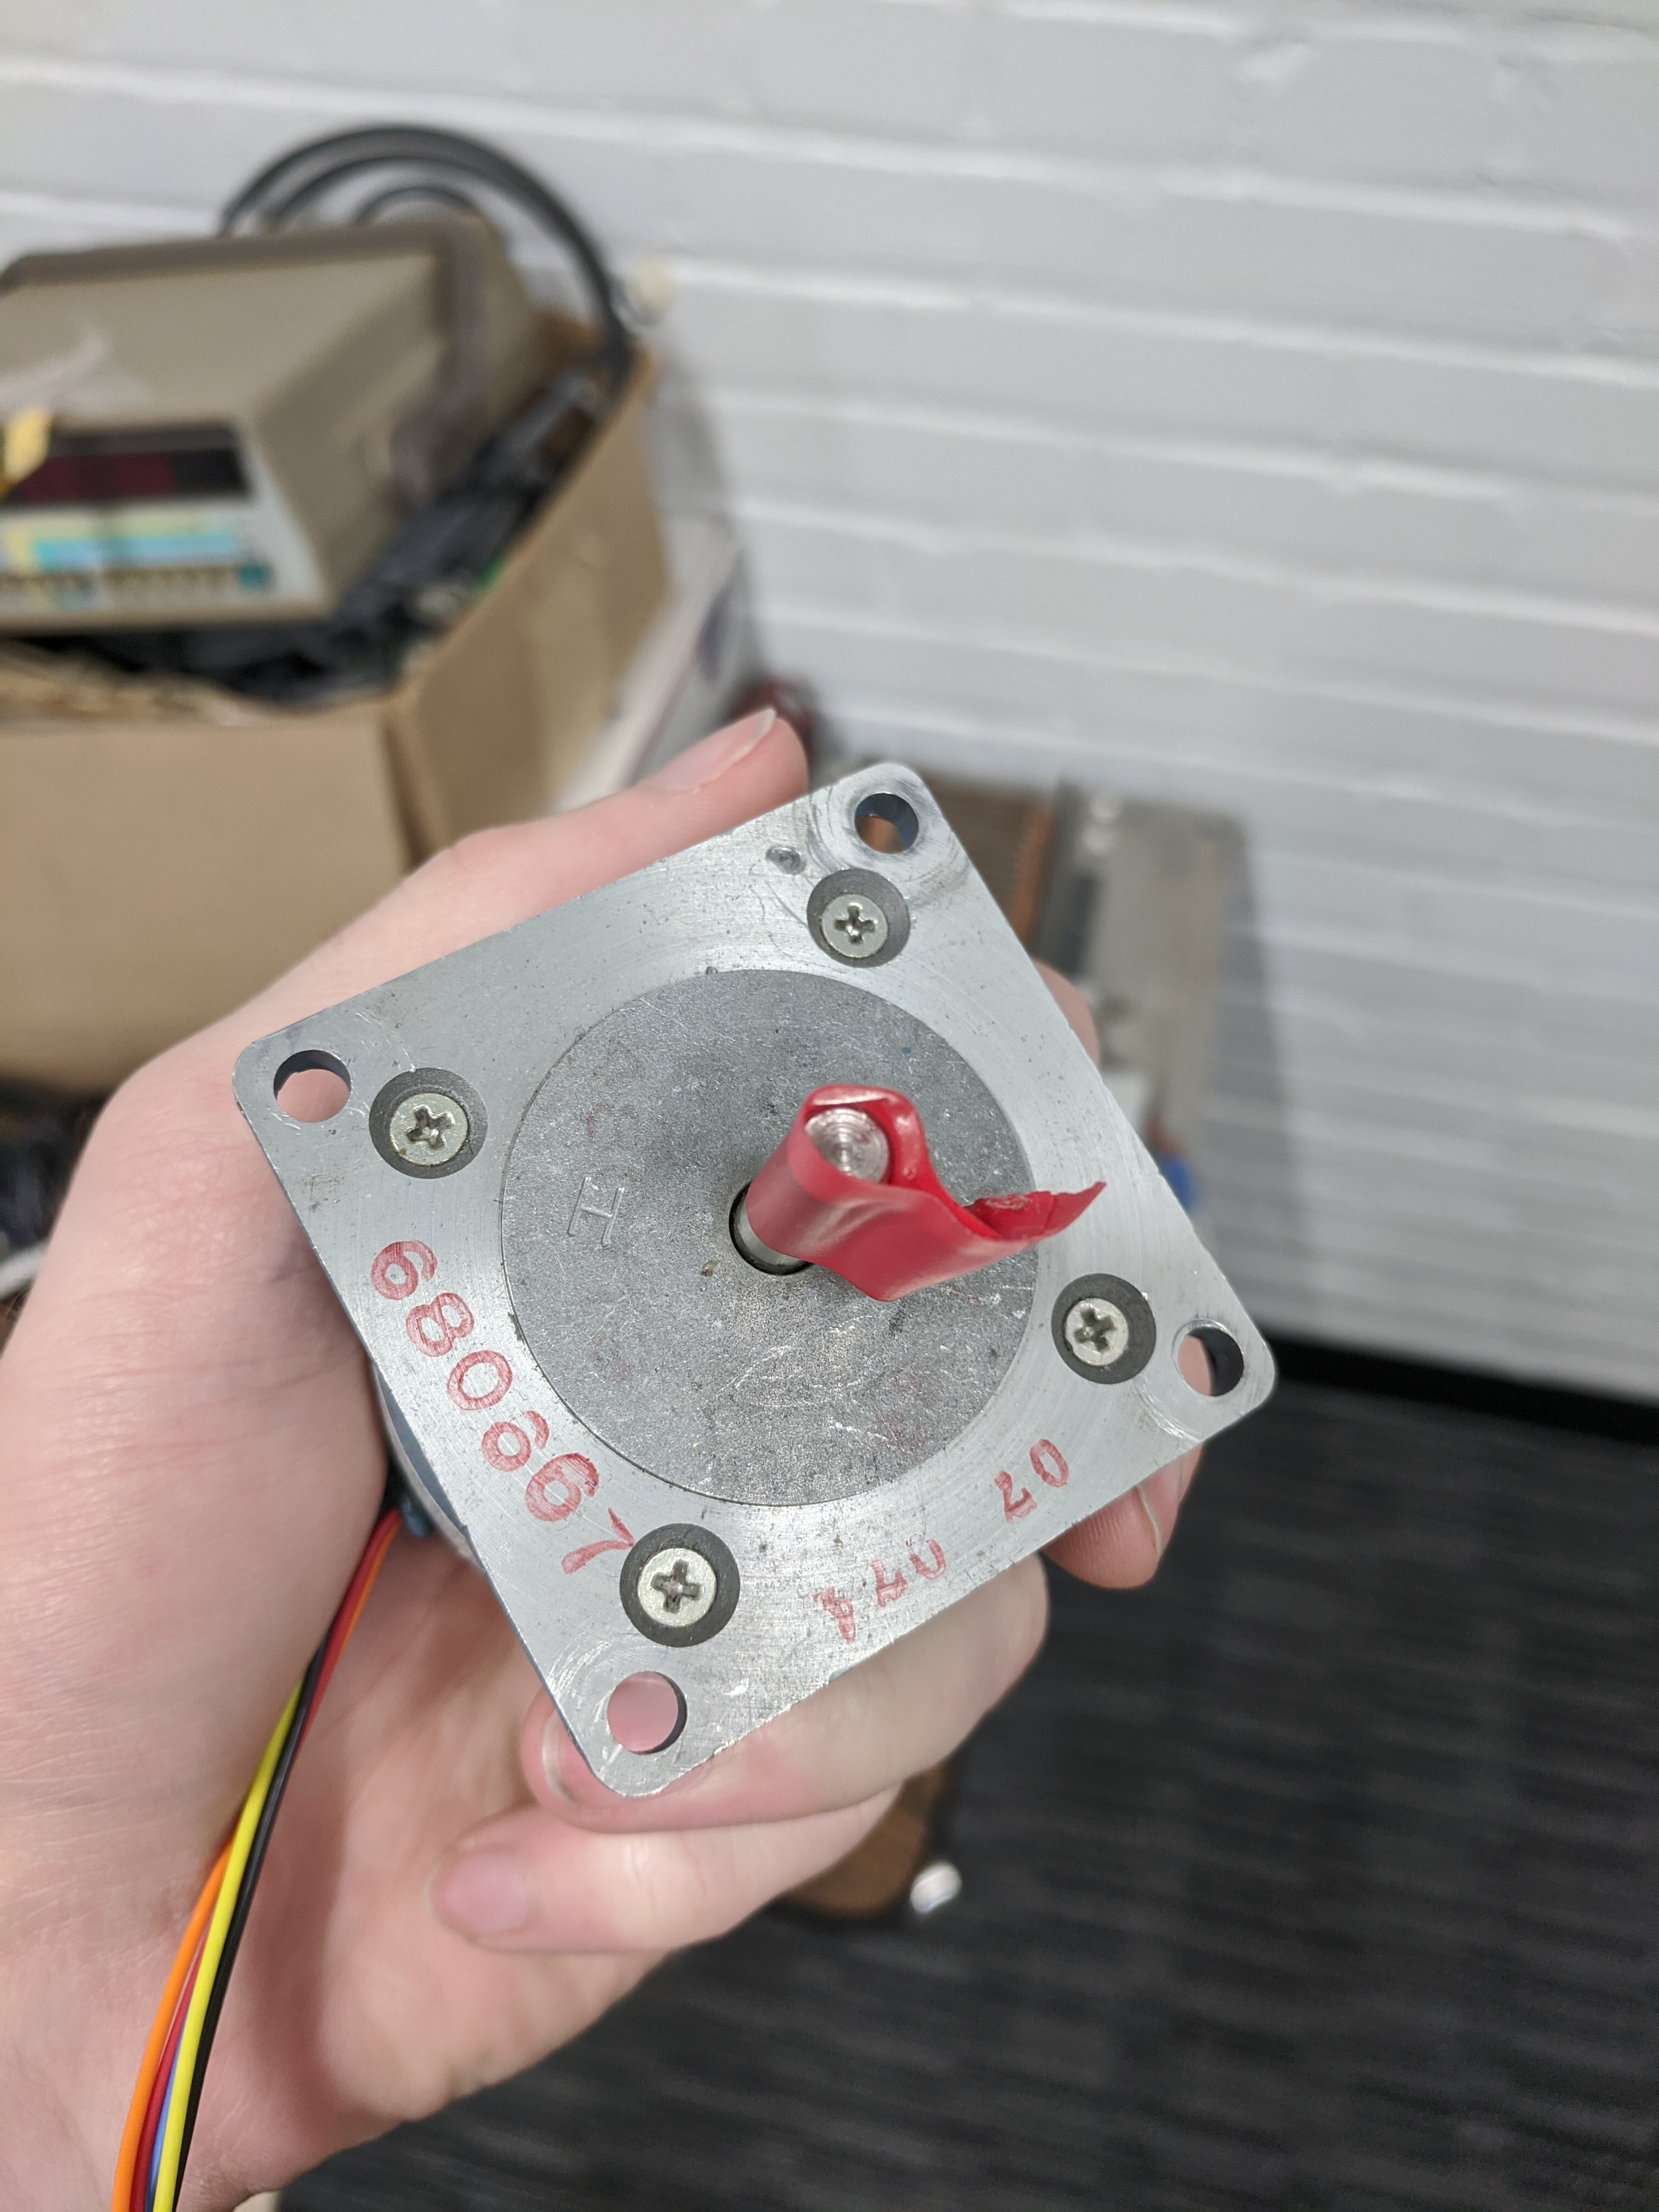cross_recessed_screw: (624, 1536, 716, 1627), (376, 1078, 464, 1169), (814, 869, 899, 951), (1058, 1289, 1134, 1364)
